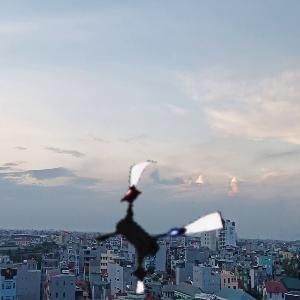drone: (86, 157, 230, 300)
